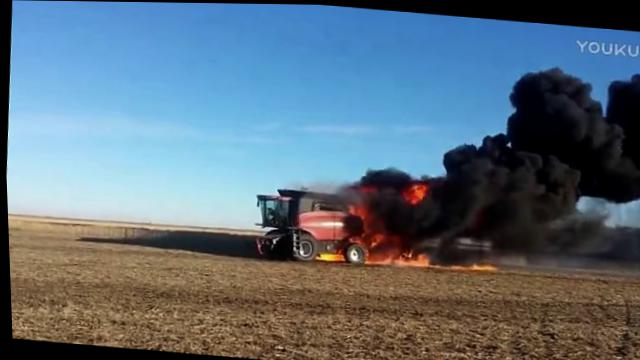fire: (358, 214, 381, 244), (359, 244, 391, 264), (390, 247, 426, 264), (400, 180, 427, 201), (314, 250, 341, 260), (345, 202, 366, 214), (469, 259, 492, 268), (447, 261, 468, 268)
